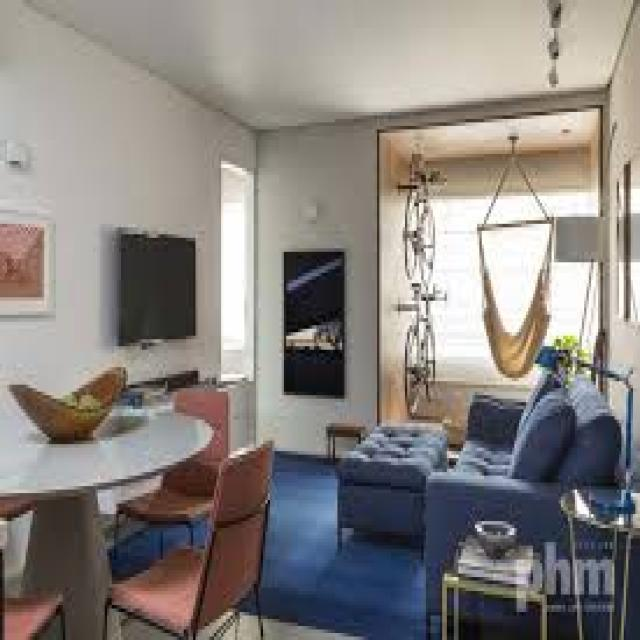Chair: (102, 440, 290, 640), (107, 382, 228, 546)
Sofa: (429, 387, 620, 613)
Table: (5, 395, 214, 635)
tv: (115, 230, 198, 344)
